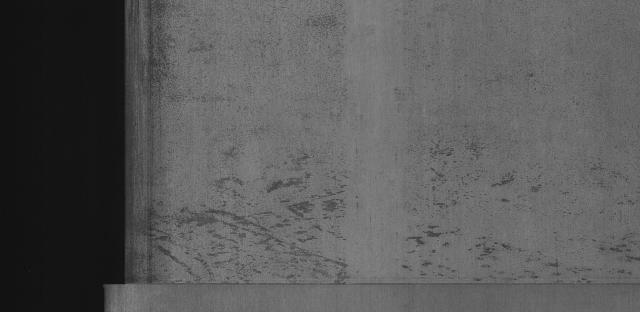welding_line: (99, 272, 639, 297)
